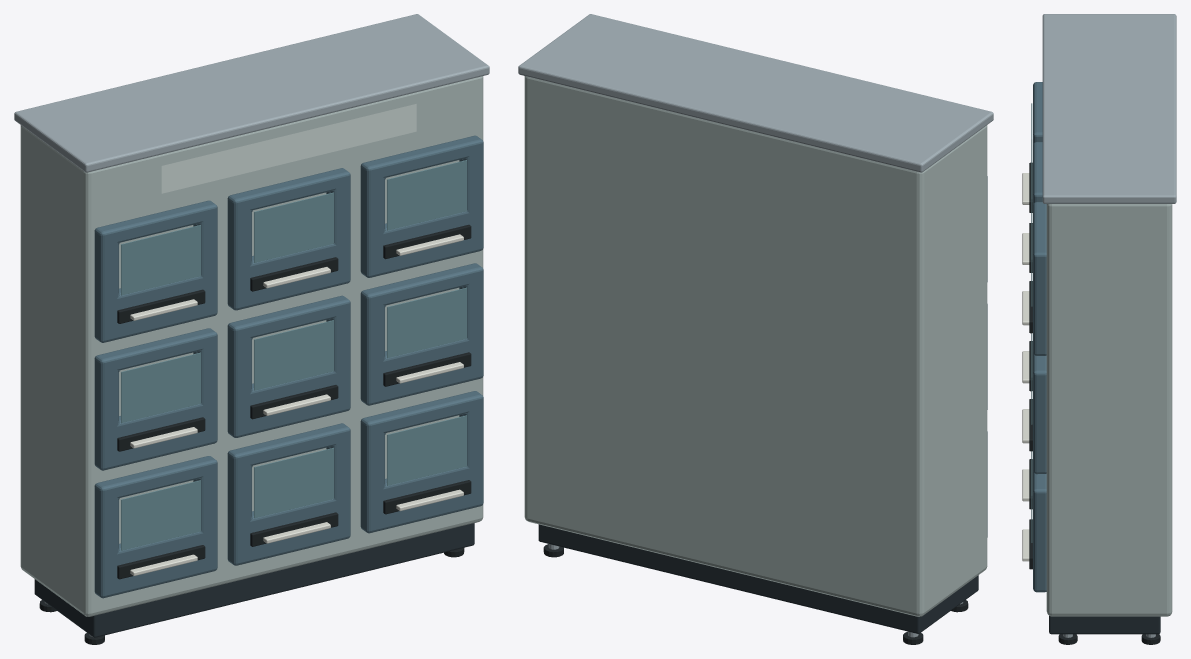
File: OD_CleanPPEDispenser.fbx
The picture shows the model from 3 angles, left to right: view 1: azimuth 30°, elevation 25°; view 2: azimuth 150°, elevation 25°; view 3: azimuth 270°, elevation 25°; orthographic projection. The views are drawn at different scales.
Parts seen in each view (by area): view 1: OD_CleanPPEDispenser; view 2: OD_CleanPPEDispenser; view 3: OD_CleanPPEDispenser.
Boxes of the visible parts, x1,y1,x2,y2 form: OD_CleanPPEDispenser: [14, 14, 489, 644]; OD_CleanPPEDispenser: [518, 14, 993, 644]; OD_CleanPPEDispenser: [1022, 14, 1176, 644].
Size of the model in its own units: 183 by 212 by 65.
